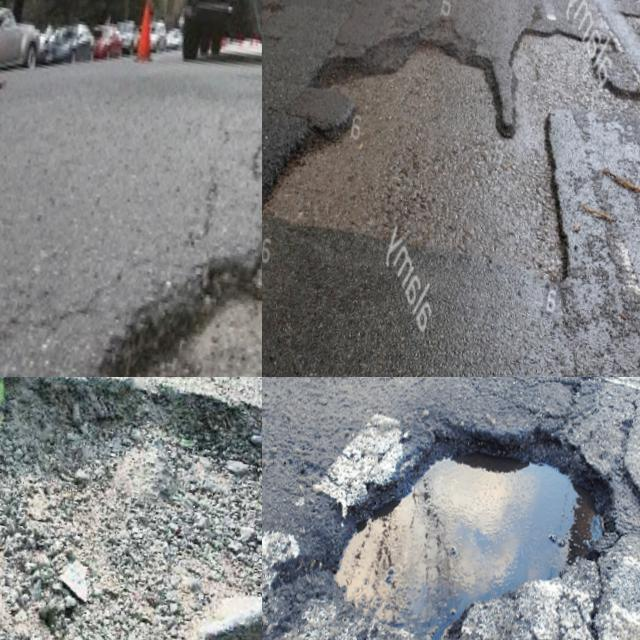Potholes: (316, 19, 640, 377), (262, 377, 640, 640), (262, 0, 527, 329), (0, 377, 262, 640), (15, 157, 262, 377), (464, 0, 640, 210), (403, 377, 640, 451)
